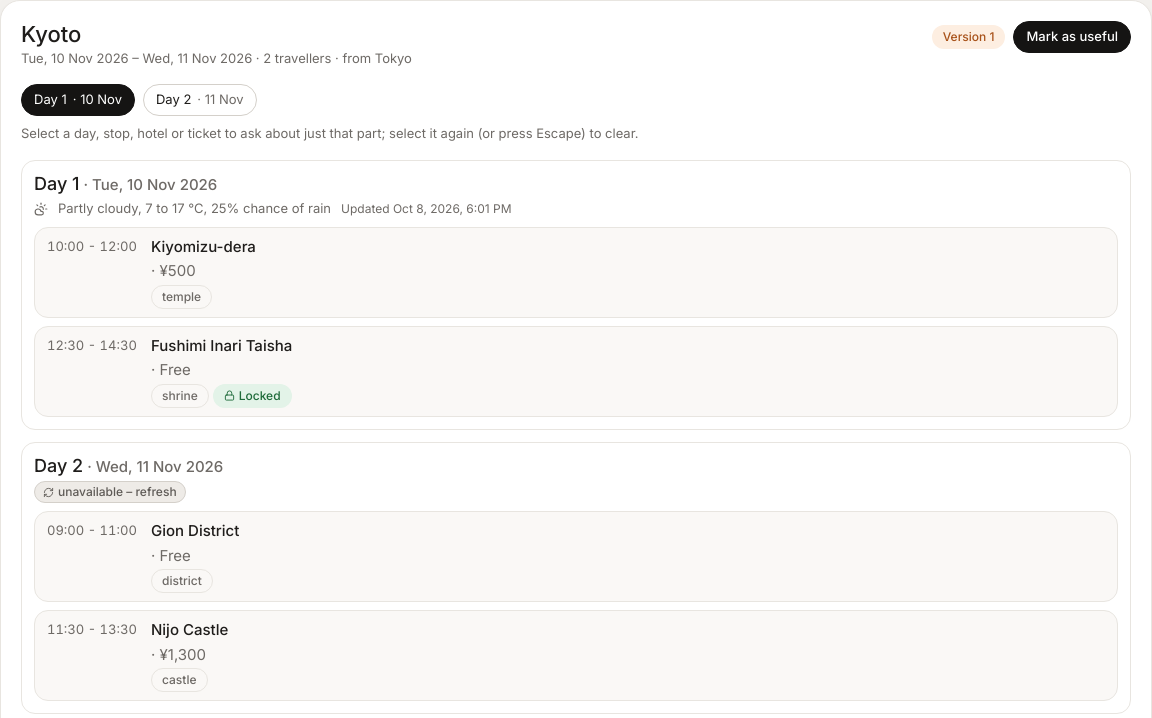
Test case: PlanWorkspace › with a plan › the day-jump strip points the map and place card at that day without scoping the chat
Click the button "Day 2 · 11 Nov" at (200, 100), box top-left (143, 84), bottom-right (257, 116)
(page scrolled)
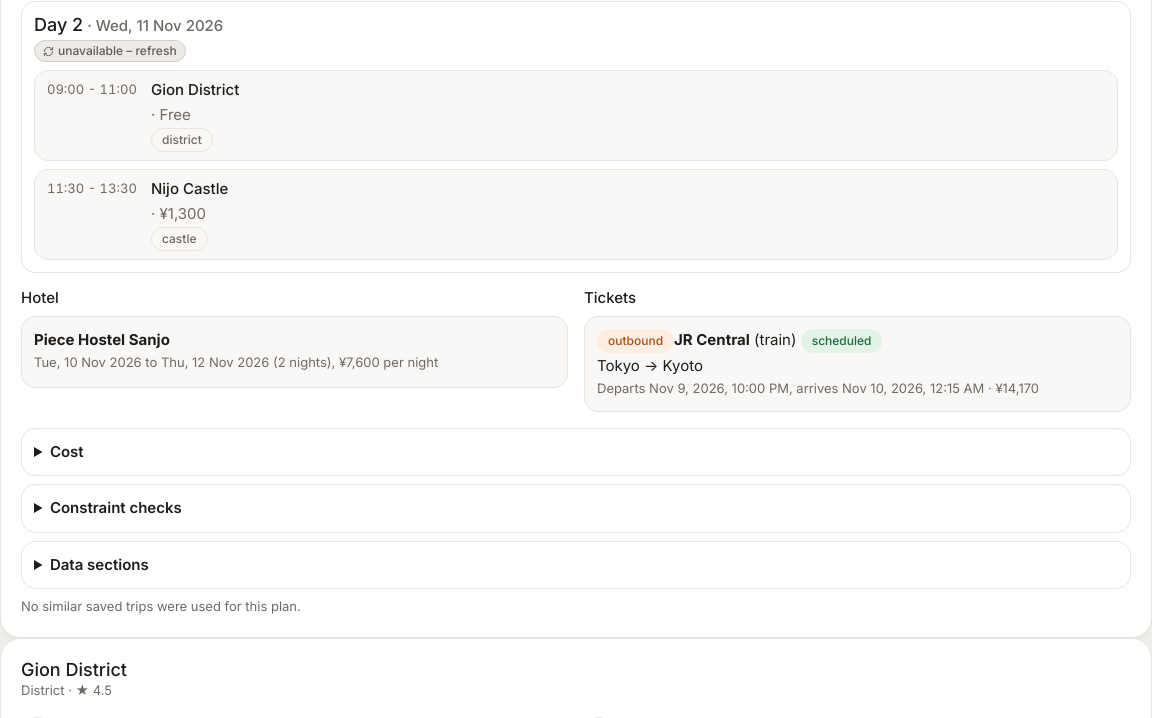
Check: the heading "Gion District" is shown, box top-left (21, 659), bottom-right (127, 681)
